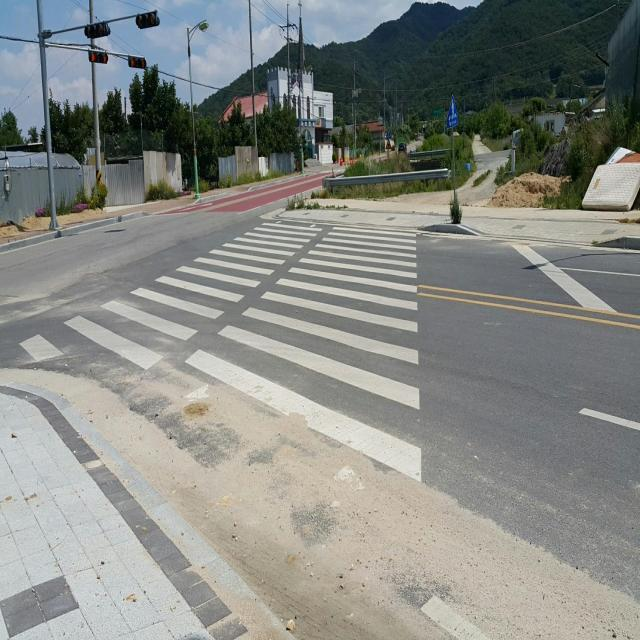횡단보도: (18, 221, 423, 487)
